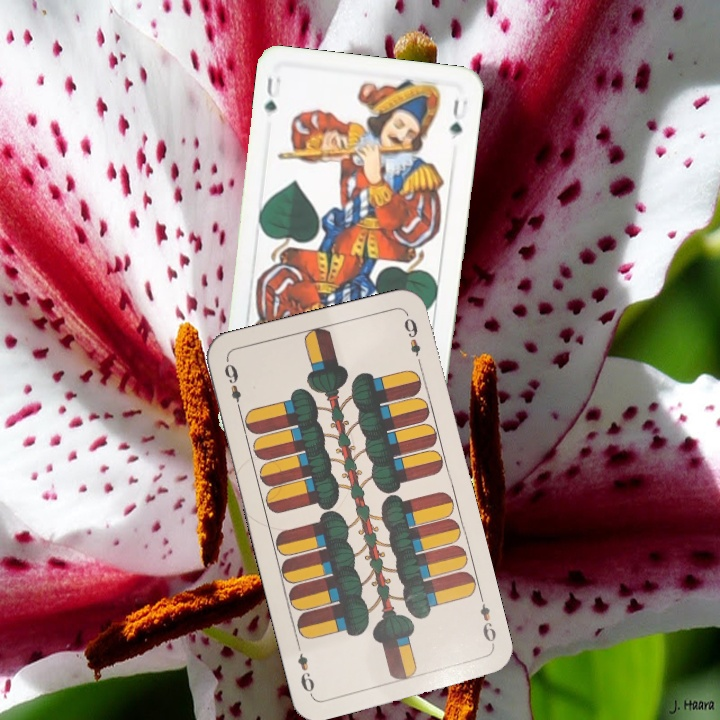E9: (476, 592, 499, 651), (220, 359, 244, 415)
GU: (260, 71, 284, 115)
